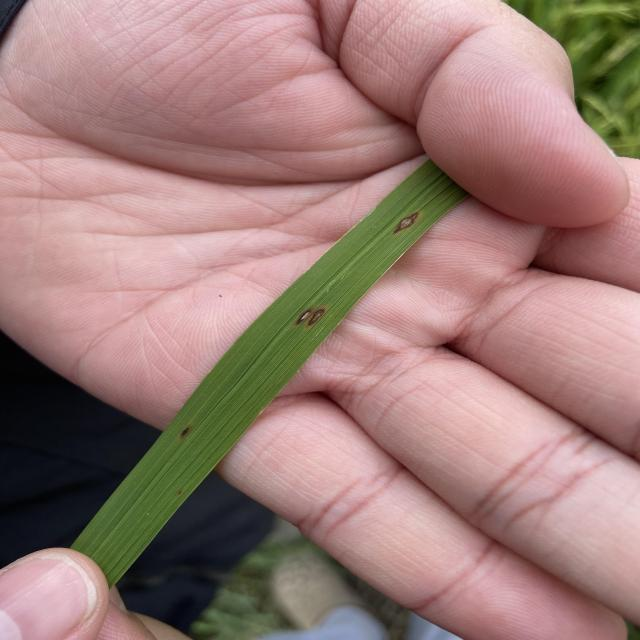Dao on: (392, 211, 420, 234), (305, 307, 327, 328), (295, 309, 313, 326), (179, 425, 193, 438)
